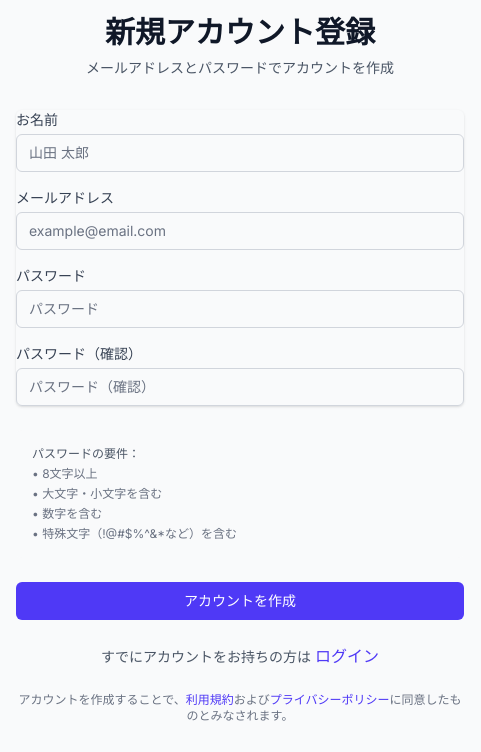
Test: SignupPage › 送信中は入力フィールドとボタンが無効になる
Note:  フォームに入力
Step 1. Type "Test User" into the field labelled "お名前" → (240, 153), box [16,134,464,172]
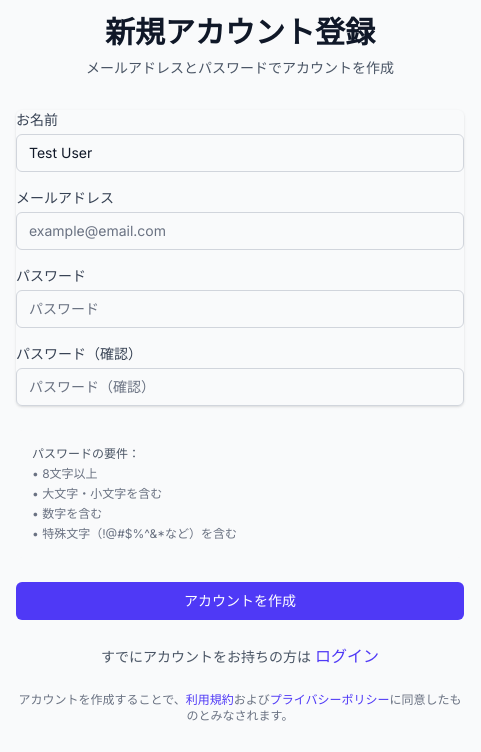
Step 2. Type "test@example.com" into the field labelled "メールアドレス" → (240, 231), box [16,212,464,250]
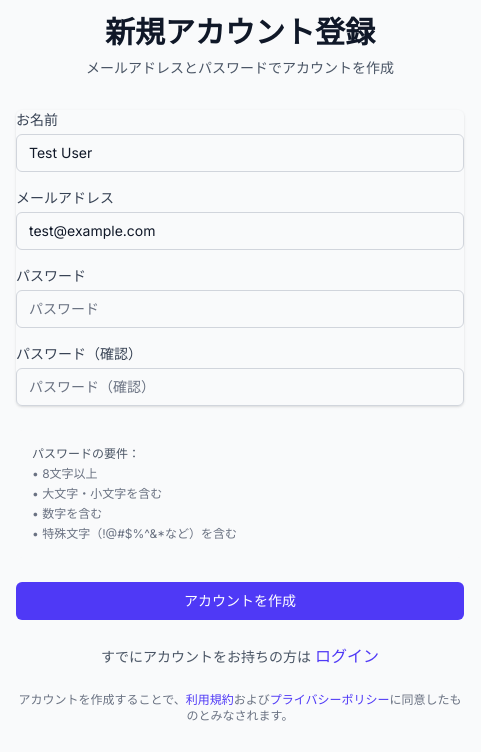
Step 3. Type "Test123!@#" into the password field labelled "パスワード" → (240, 309), box [16,290,464,328]
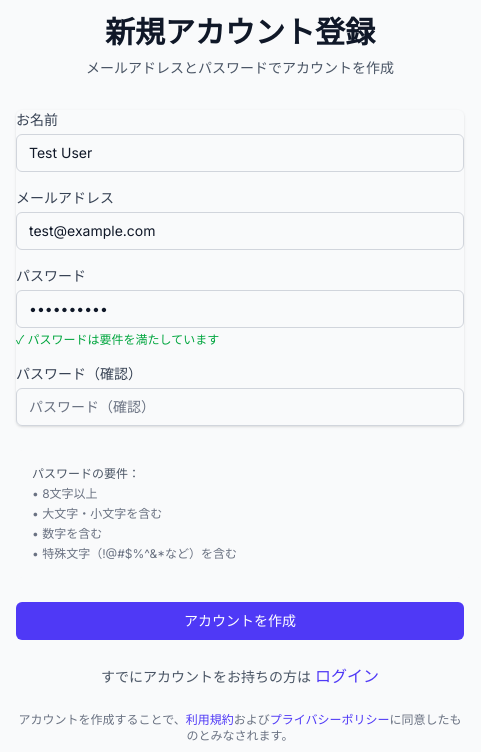
Step 4. Type "Test123!@#" into the password field labelled "パスワード（確認）" → (240, 407), box [16,388,464,426]
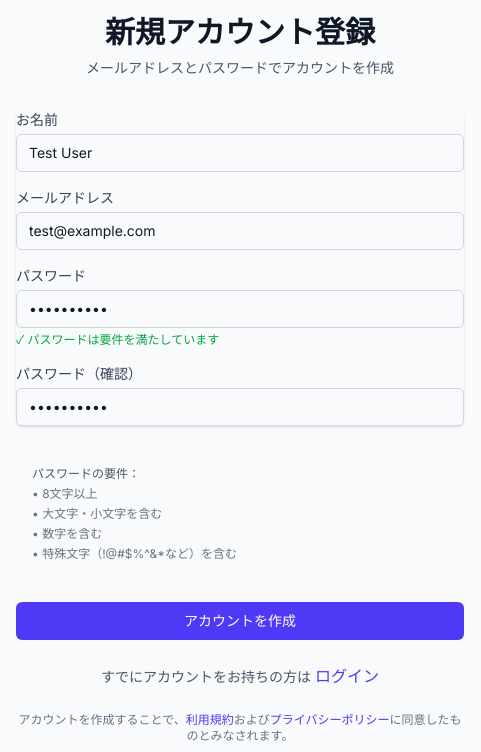
Note:  フォームを送信
Step 5. Click the button "アカウントを作成" → (240, 621), box [16,602,464,640]
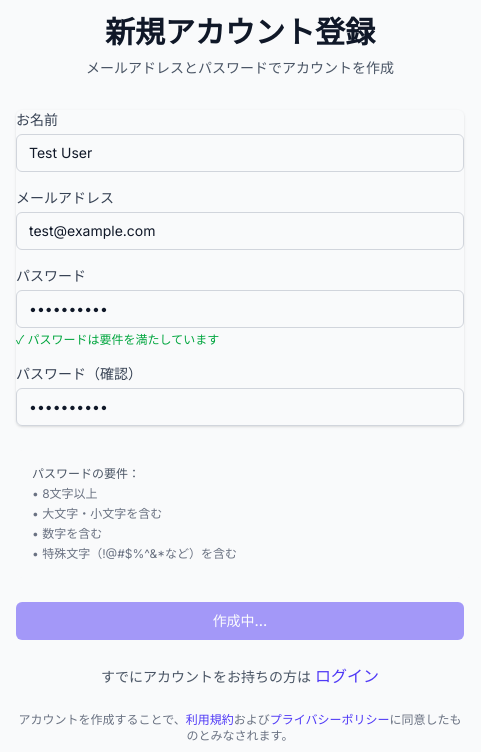
Expected: the field labelled "お名前" is disabled, [16,134,464,172]
Expected: the button "作成中..." is disabled, [16,602,464,640]
